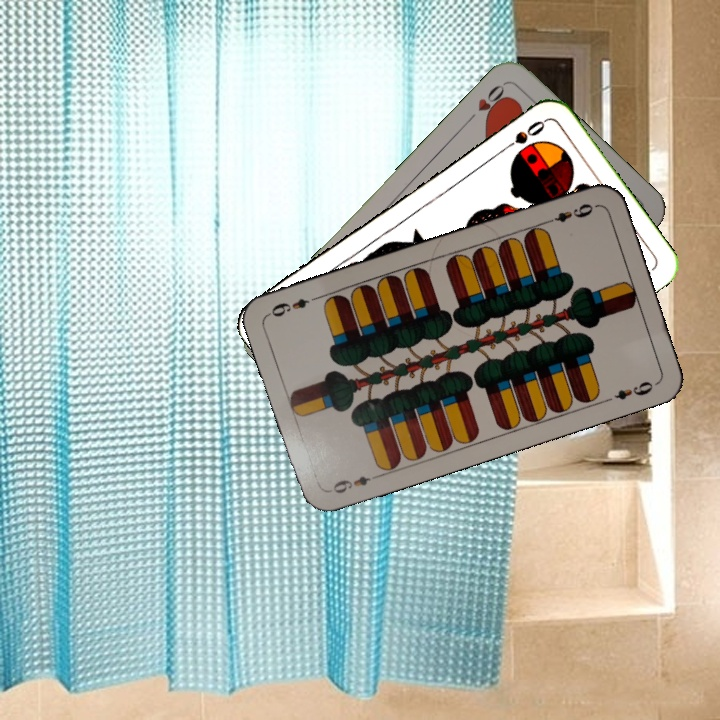E9: (541, 199, 599, 227), (329, 472, 372, 496)
HO: (462, 79, 511, 126)
SO: (496, 116, 548, 155)
